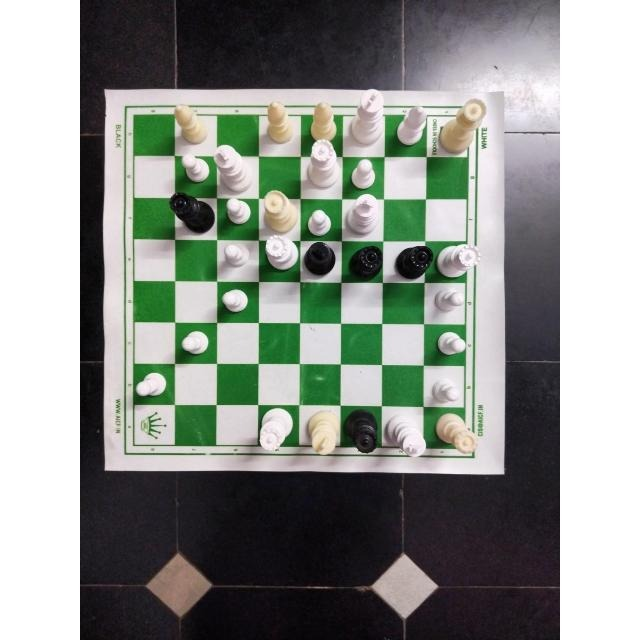black-king: (303, 237, 337, 274)
black-queen: (164, 191, 216, 233), (393, 241, 439, 284), (342, 410, 381, 458), (347, 238, 383, 280)
white-bishop: (255, 100, 296, 150), (168, 99, 210, 143), (392, 106, 430, 146), (307, 101, 343, 143)
white-king: (298, 408, 341, 459), (350, 89, 386, 148), (387, 408, 426, 459), (215, 148, 257, 192), (346, 192, 382, 233)
white-pawn: (433, 323, 473, 359), (137, 360, 170, 400), (175, 152, 211, 186), (178, 326, 214, 360), (431, 371, 464, 404), (347, 159, 379, 191), (222, 197, 254, 227), (219, 285, 251, 315), (436, 287, 464, 319), (308, 209, 336, 237), (223, 240, 251, 268)
white-queen: (443, 98, 488, 158), (433, 414, 481, 460), (256, 188, 302, 234), (434, 242, 479, 283), (302, 141, 338, 191), (257, 404, 294, 452), (258, 235, 298, 275)
